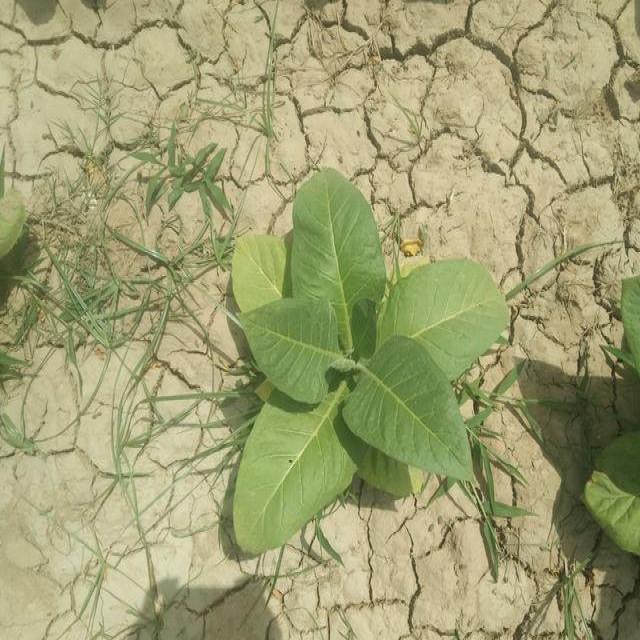crop: (231, 175, 504, 573), (598, 411, 640, 562)
